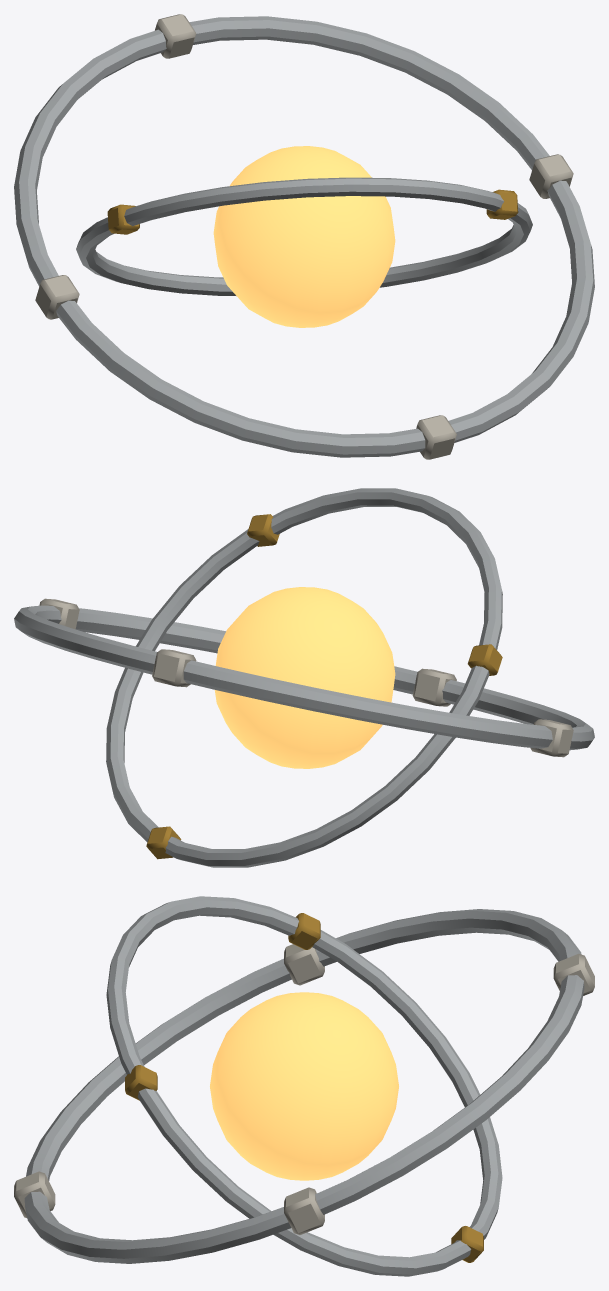
File: relay.glb
The picture shows the model from 3 angles, top to bottom: view 1: azimuth 30°, elevation 25°; view 2: azimuth 150°, elevation 25°; view 3: azimuth 270°, elevation 25°; orthographic projection. The views are drawn at different scales.
Parts seen in each view (by area): view 1: relay__ring, relay__core, relay__ring2; view 2: relay__ring, relay__ring2, relay__core; view 3: relay__ring, relay__core, relay__ring2.
Boxes of the visible parts, left/top/right/bottom form: relay__ring: left=14, top=14, right=594, bottom=459; relay__core: left=213, top=146, right=395, bottom=327; relay__ring2: left=76, top=177, right=532, bottom=295; relay__ring: left=14, top=598, right=594, bottom=757; relay__ring2: left=106, top=488, right=502, bottom=867; relay__core: left=214, top=587, right=395, bottom=768; relay__ring: left=14, top=909, right=594, bottom=1263; relay__core: left=210, top=992, right=398, bottom=1180; relay__ring2: left=106, top=896, right=502, bottom=1276.
Size of the model in its own units: 1.65 by 0.8118 by 1.53.
3 materials, 1 textured.
